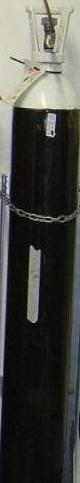cylinder: (0, 1, 80, 483)
